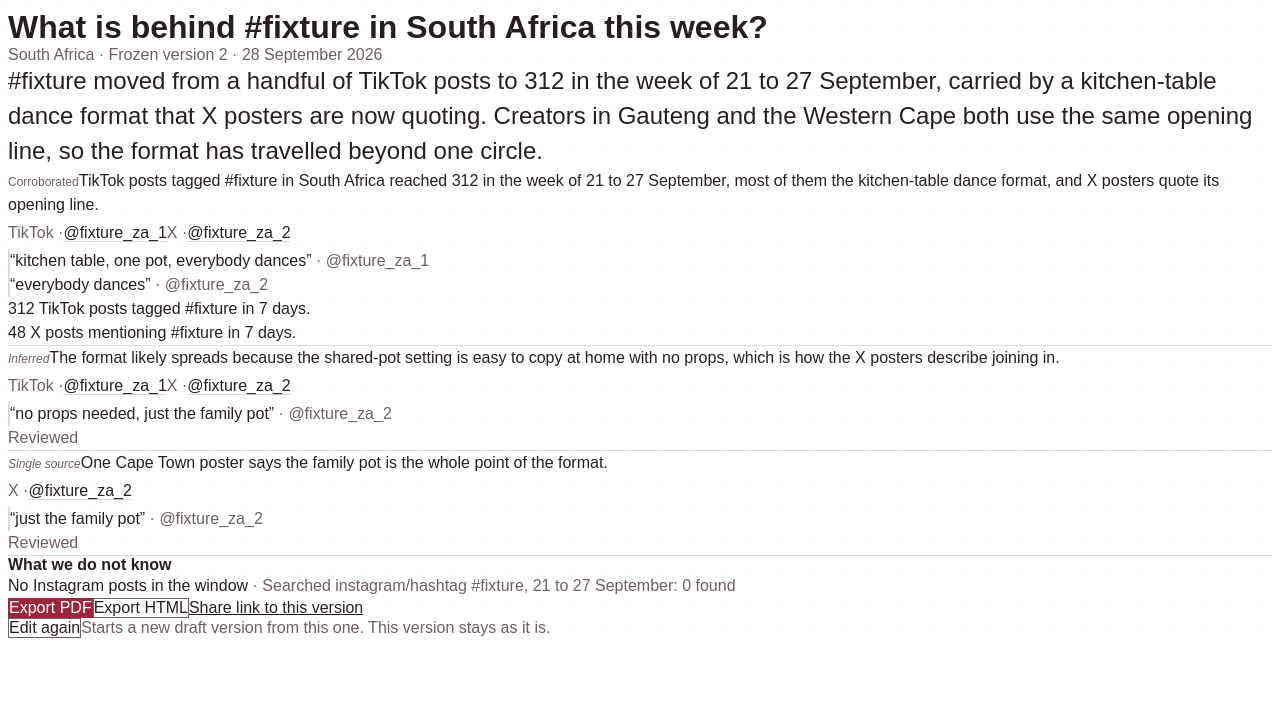
Test case: a refused Edit again keeps the frozen version on screen with the server's words
The width and height of the screenshot is (1280, 720).
Click the button "Edit again".
click(45, 628)  # box [8,618,81,638]
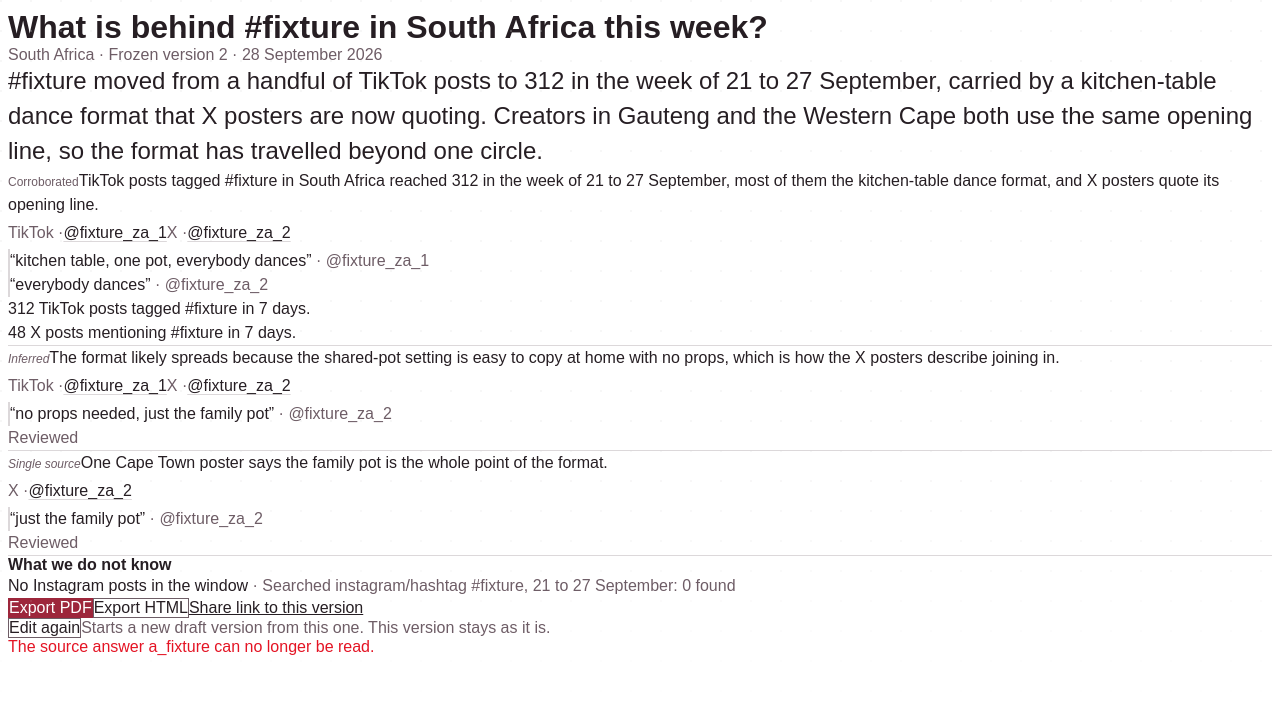
Expected: the text "Frozen version 2" is shown, [8,46,382,63]
Expected: the text "The source answer a_fixture can no longer be read." is shown, [8,638,374,655]
